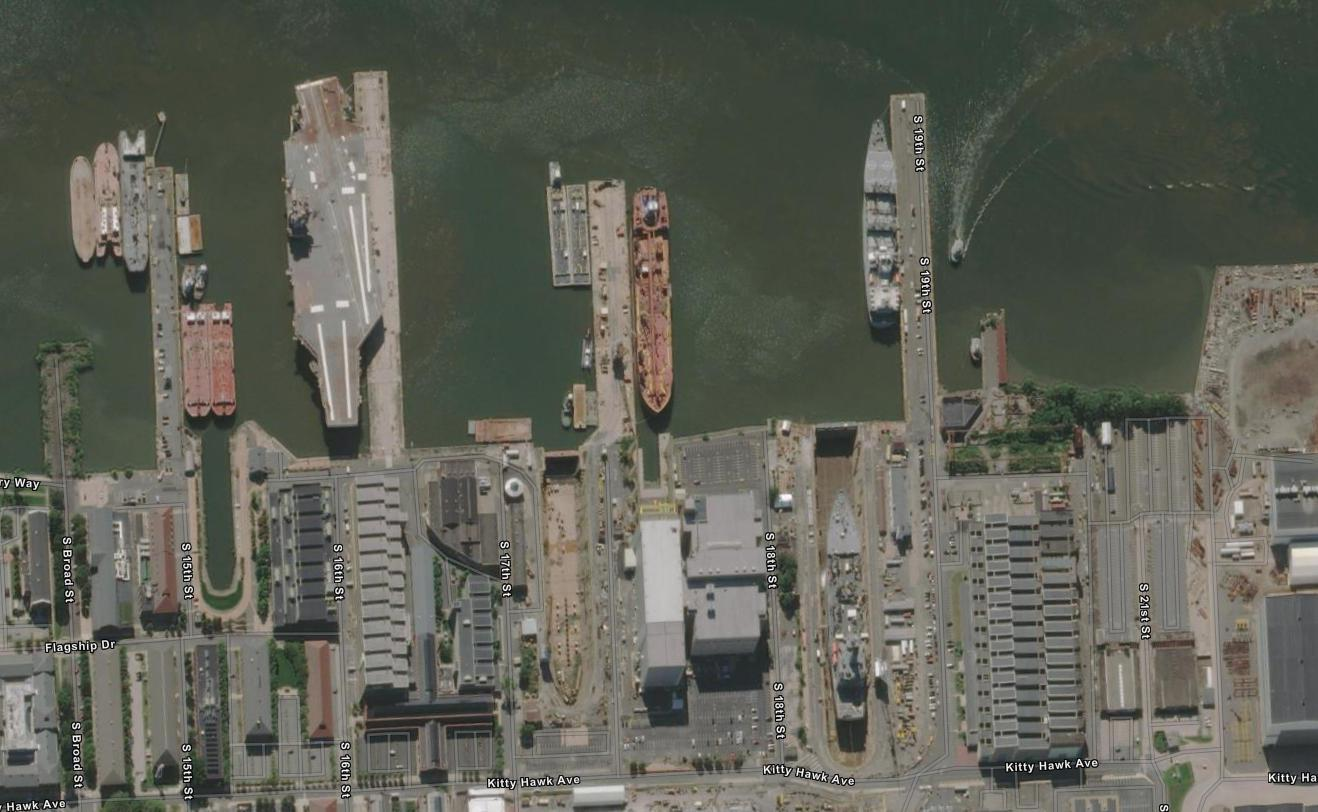carrier: (280, 67, 391, 438)
